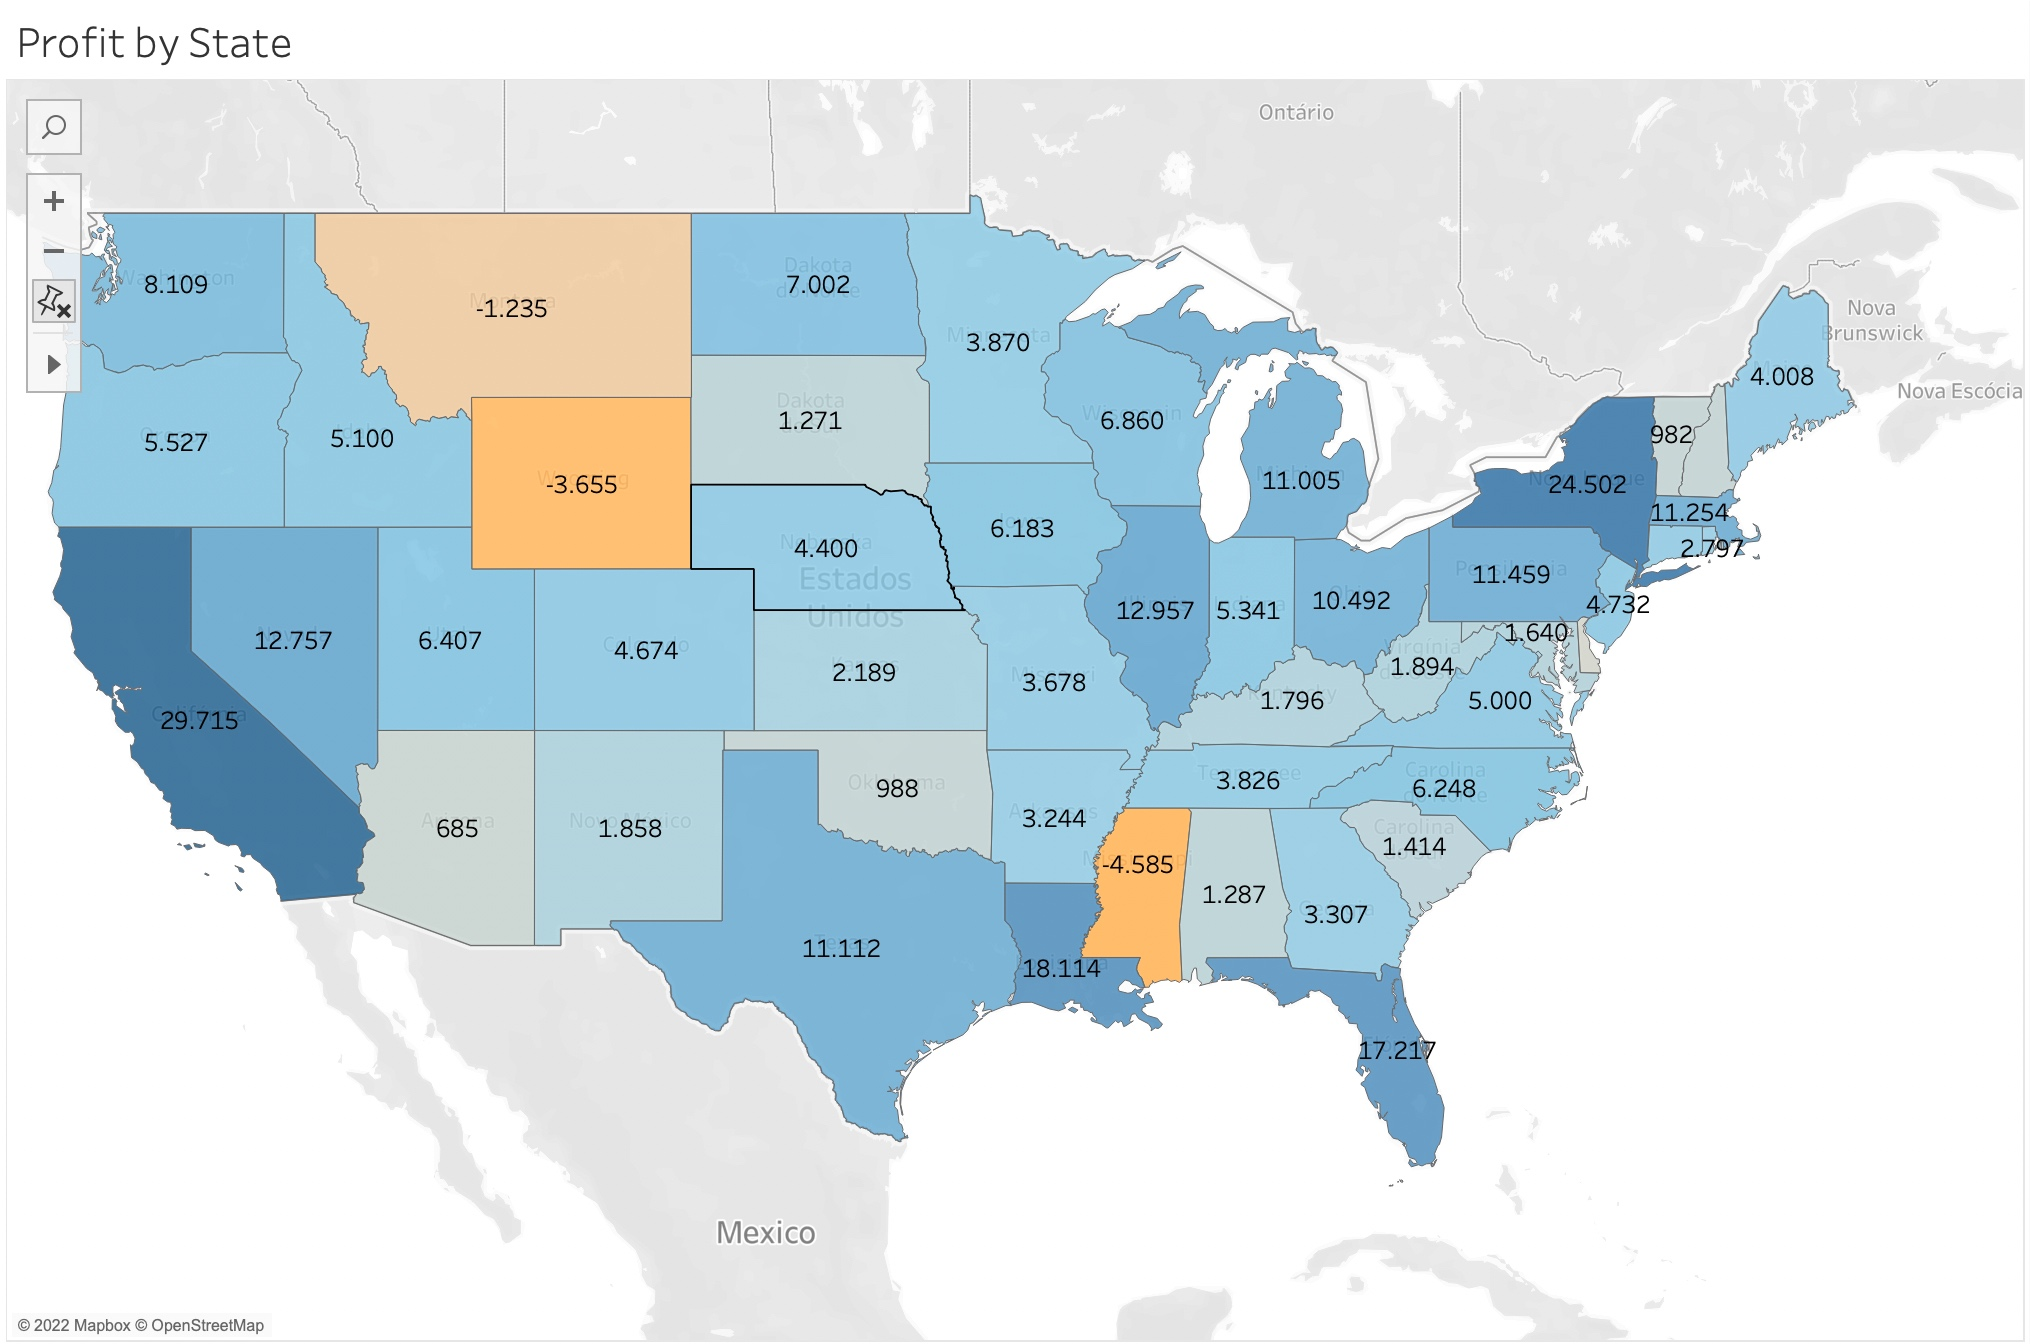

Layout of this report page (visuals, bound fields, positions):
{"tool":"tableau","page":{"name":"Painel 1","canvas":[1000,800],"ordinal":0},"visuals":[{"type":"worksheet","title":"Profit by State","mark":"Automatic","box":[8,8,984,784]}]}

Visuals, with their boxes on the page's 1000x800 design canvas (x1, y1, x2, y2). These are canvas units, not pixel positions in the 2030x1344 screenshot, which may show the page scaled, cropped or inside an application window:
"Profit by State" worksheet: 8,8,992,792
